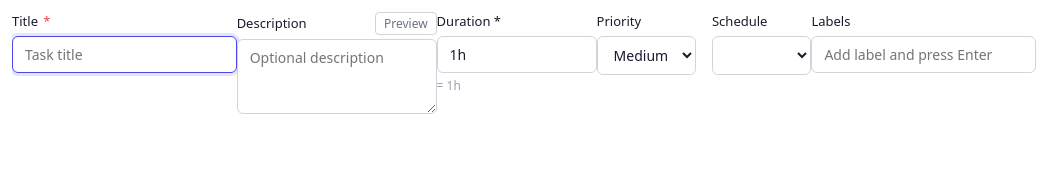
Test case: SharedFormFields — labels › label input: pressing Enter adds a chip
The width and height of the screenshot is (1048, 172).
In the field with placeholder "Add label and press Enter": [924, 54] box [811,36,1036,72], type "frontend"
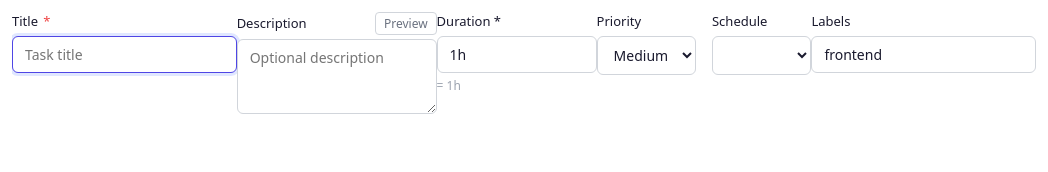
Press Enter in the field with placeholder "Add label and press Enter", box [811,36,1036,72]
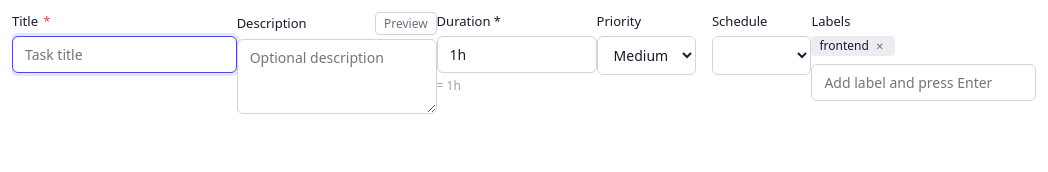
Now the text "frontend" is shown once, box [819,38,869,54]
